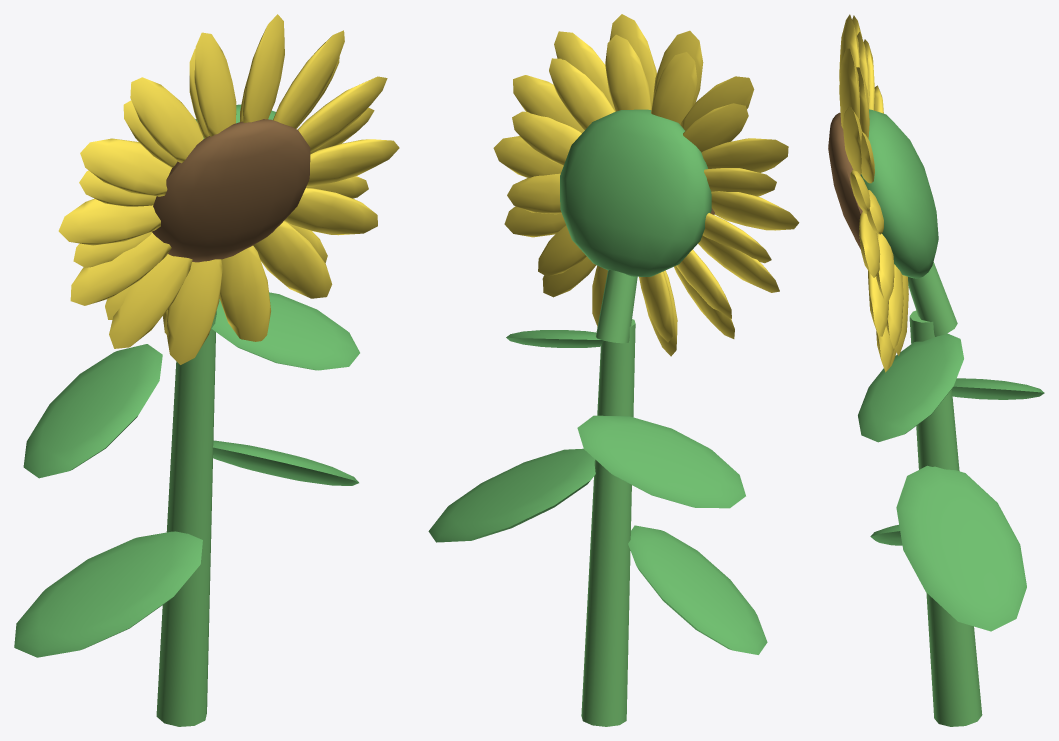
File: OW_Crop_Sunflower.fbx
3 renders of one model, left to right at view 1: azimuth 30°, elevation 25°; view 2: azimuth 150°, elevation 25°; view 3: azimuth 270°, elevation 25°, orthographic. The views are drawn at different scales.
Parts seen in each view (by area): view 1: OW_Crop_Sunflower; view 2: OW_Crop_Sunflower; view 3: OW_Crop_Sunflower.
Boxes of the visible parts, x1,y1,x2,y2 form: OW_Crop_Sunflower: (14, 14, 399, 726); OW_Crop_Sunflower: (428, 14, 799, 726); OW_Crop_Sunflower: (828, 14, 1044, 726).
Bounding box in the file's own units: 59.28 × 119 × 34.15.
